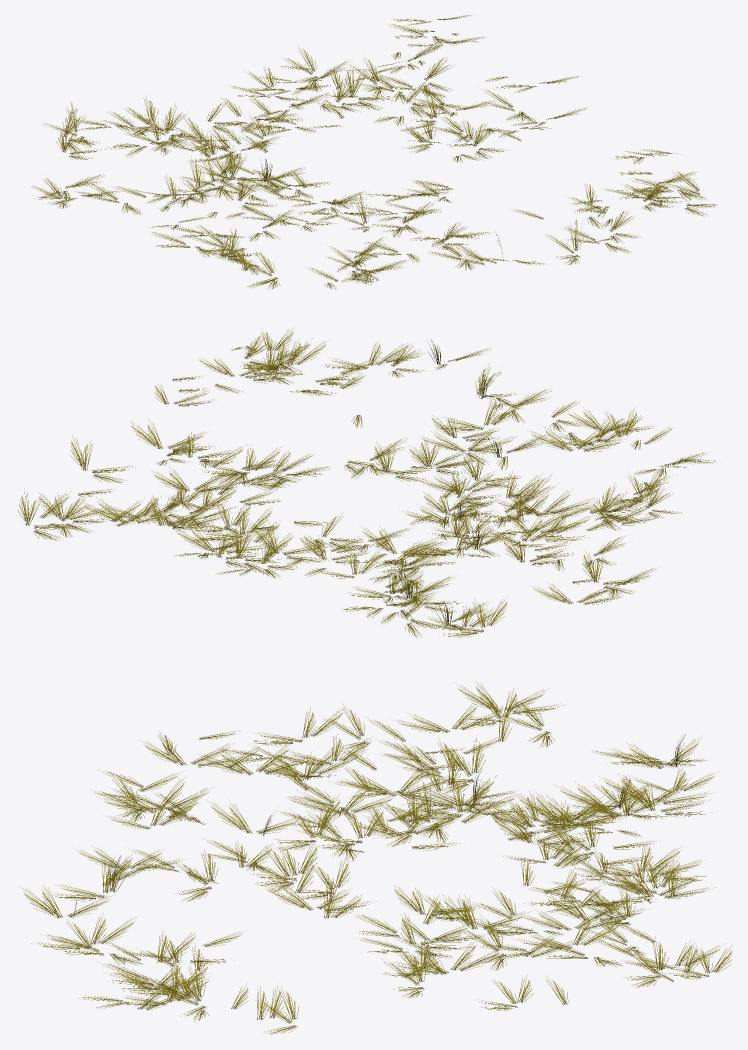
Rendered from dead_grass_lod1.glb.
The picture shows the model from 3 angles, top to bottom: view 1: azimuth 30°, elevation 25°; view 2: azimuth 150°, elevation 25°; view 3: azimuth 270°, elevation 25°; orthographic projection. The views are drawn at different scales.
Visible parts, largest first — view 1: DeadGrass_LOD1_temp; view 2: DeadGrass_LOD1_temp; view 3: DeadGrass_LOD1_temp.
Part boxes in pixels (x1,y1,x2,y2): DeadGrass_LOD1_temp: (32, 15, 717, 289); DeadGrass_LOD1_temp: (17, 328, 715, 637); DeadGrass_LOD1_temp: (22, 681, 732, 1034).
Size of the model in its own units: 45.52 by 3.65 by 41.04.
Materials: 1 (1 with a texture image).
